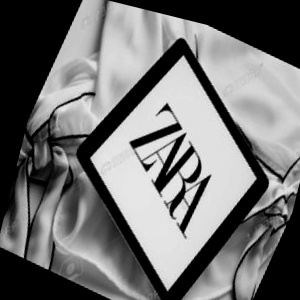zara: (201, 60, 300, 143)
